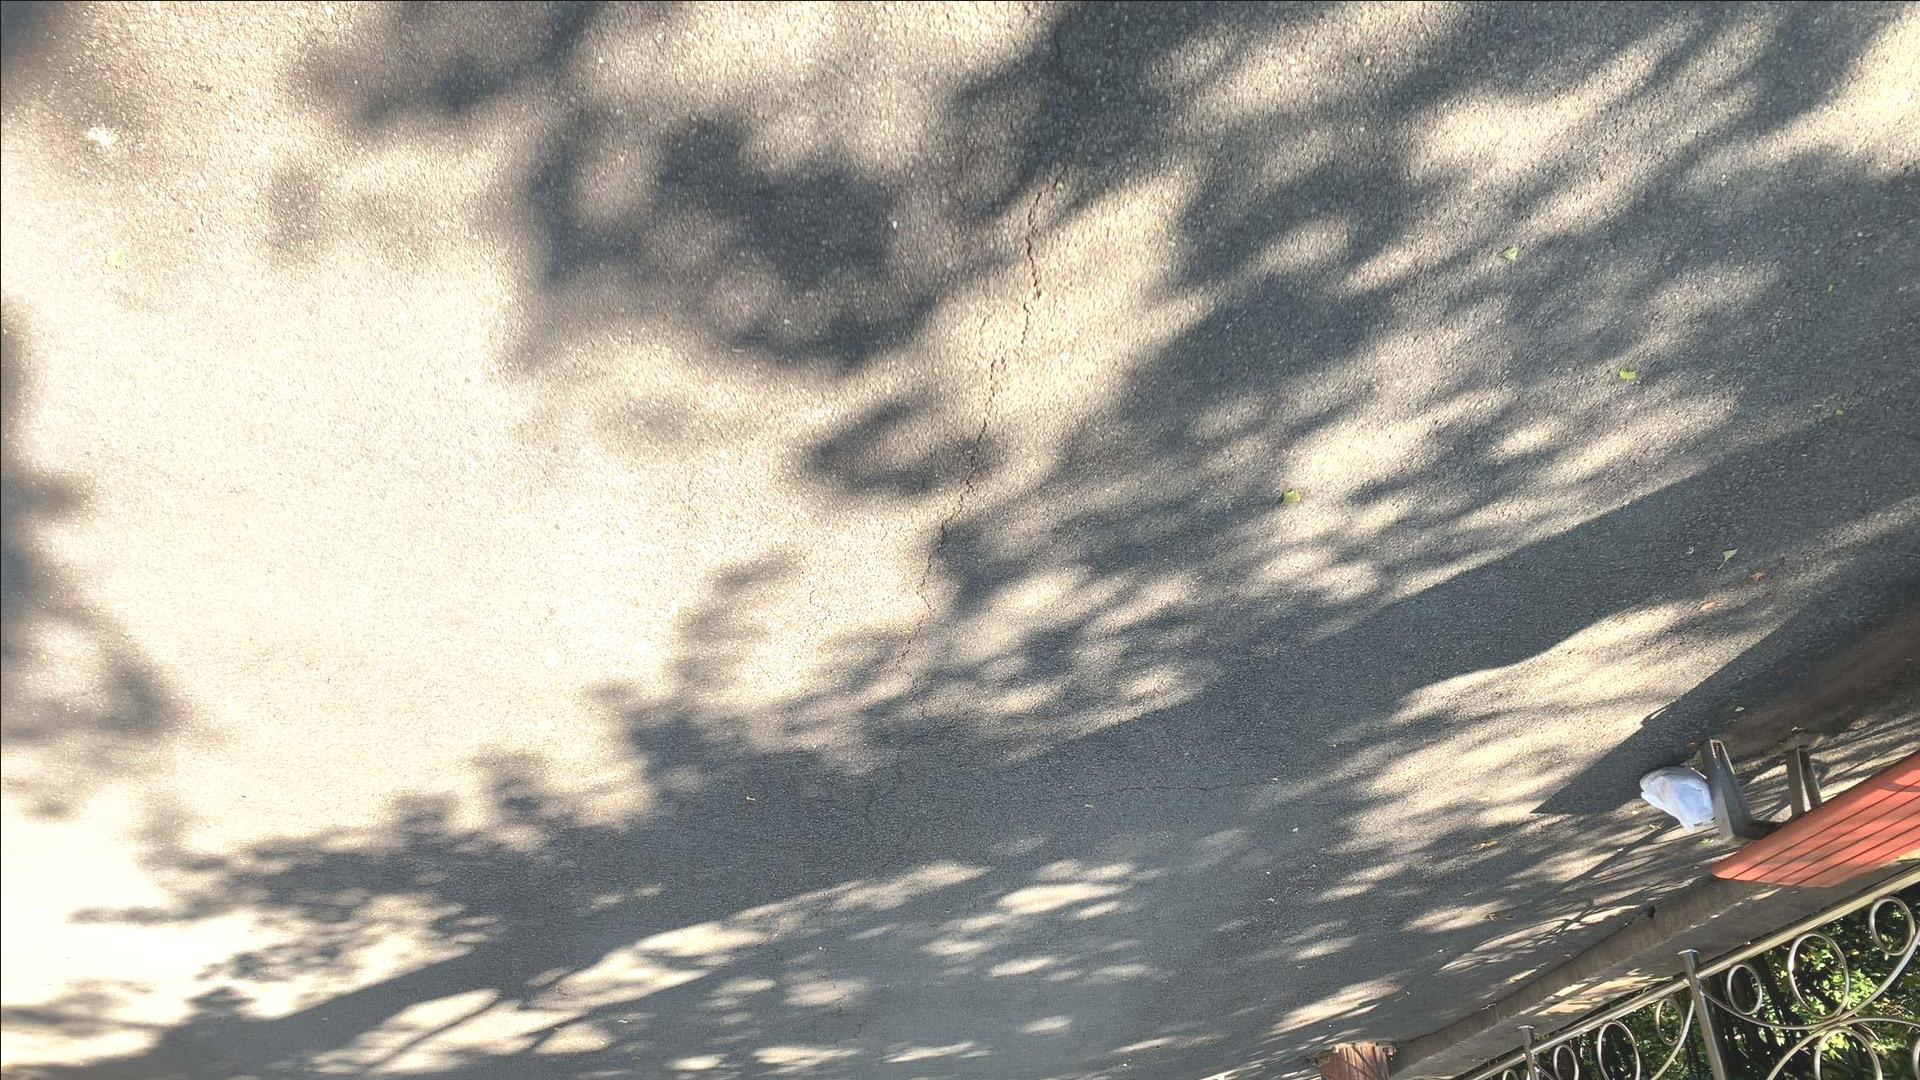white_bag: (1630, 761, 1720, 833)
